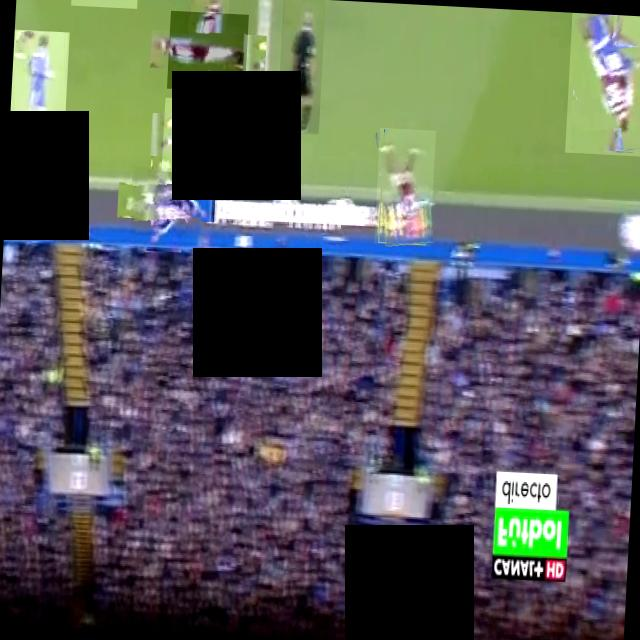ball: (180, 156, 198, 174)
referee: (277, 0, 326, 134)
soccer-player: (565, 13, 640, 157), (8, 29, 70, 162), (374, 128, 436, 247), (167, 11, 249, 93), (162, 98, 240, 176), (130, 166, 203, 239), (5, 144, 60, 218), (612, 15, 640, 48), (71, 0, 138, 9)
